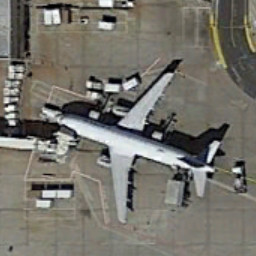Airplane: (35, 65, 225, 231)
